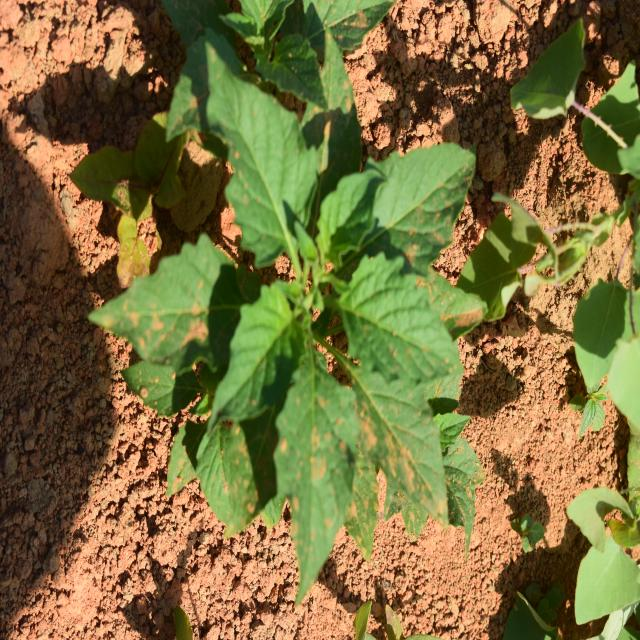Black_nightshade: (156, 78, 477, 530)
